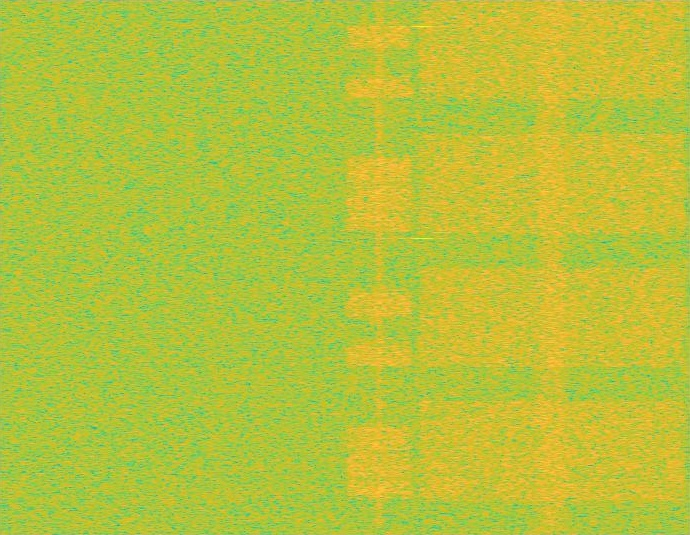5G: (414, 0, 689, 534)
DSSS: (533, 0, 571, 534), (375, 0, 384, 534)
LTE: (345, 0, 414, 534)
Radar: (416, 0, 429, 534)
